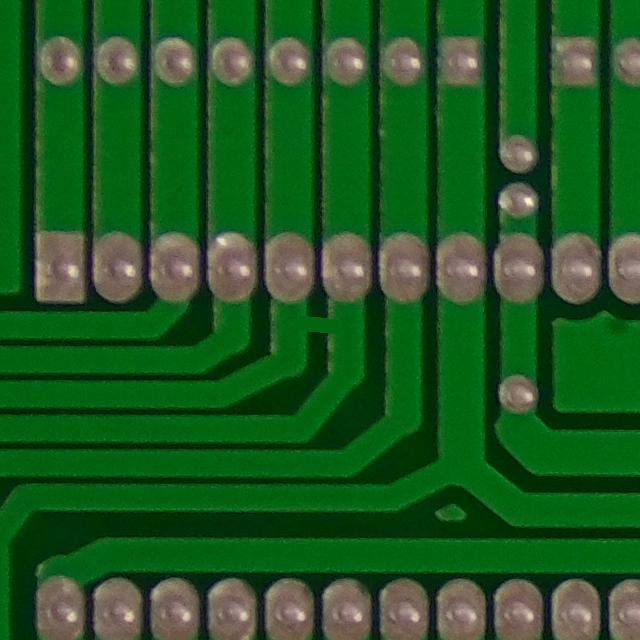short: (277, 276, 364, 365)
